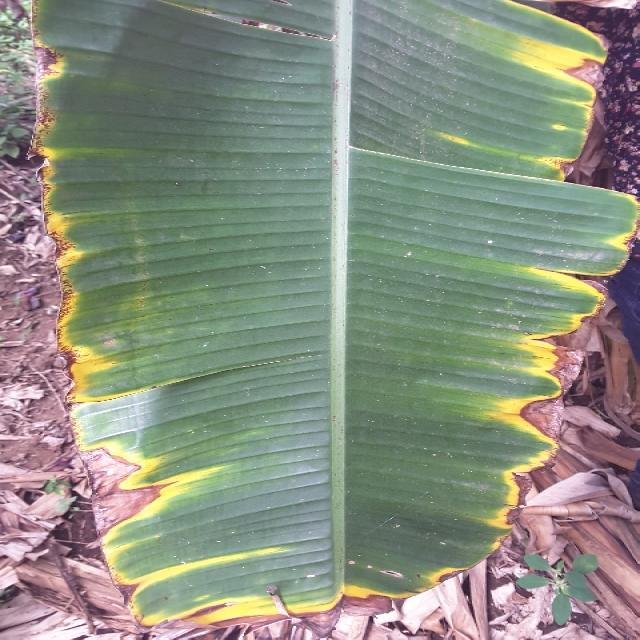Cordana: (18, 0, 233, 618), (400, 0, 637, 185), (160, 522, 503, 640), (408, 351, 566, 596), (490, 178, 640, 371)
